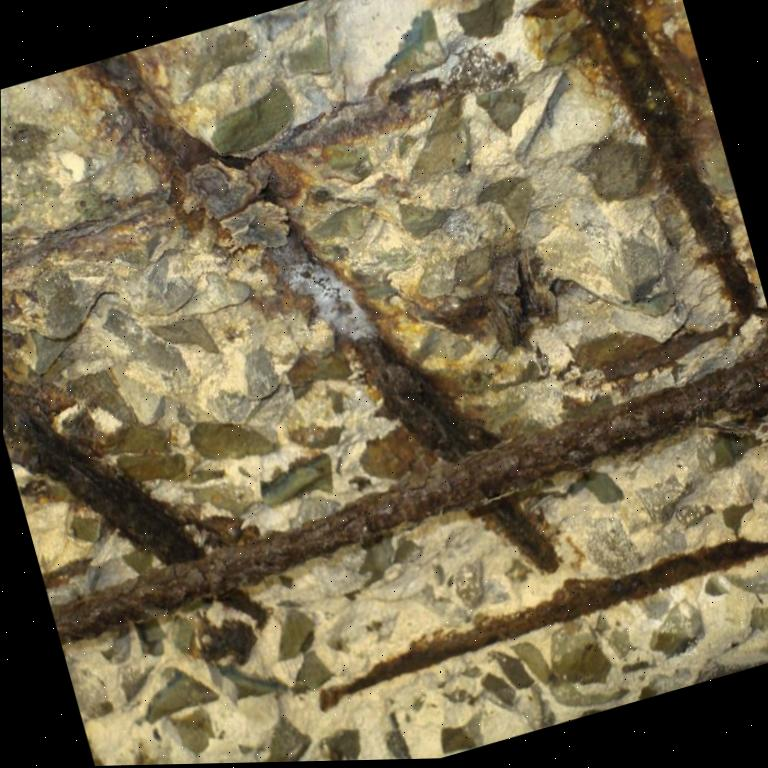exposed_rebar: (3, 53, 768, 644), (335, 535, 768, 698), (578, 0, 757, 318)
spalling: (1, 0, 768, 766)
